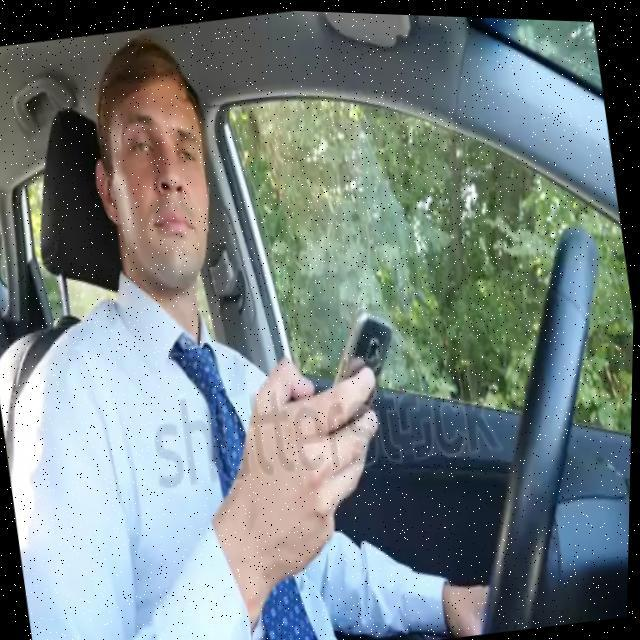PhoneCall: (318, 302, 410, 431)
